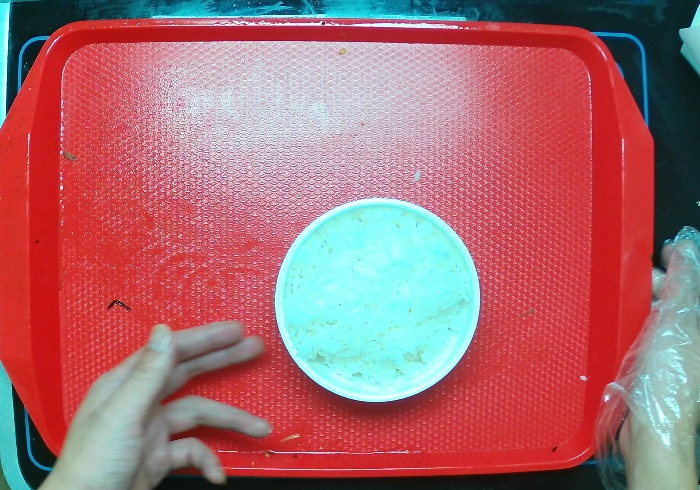YKMZ-Fan_Wan: (268, 190, 485, 411)
